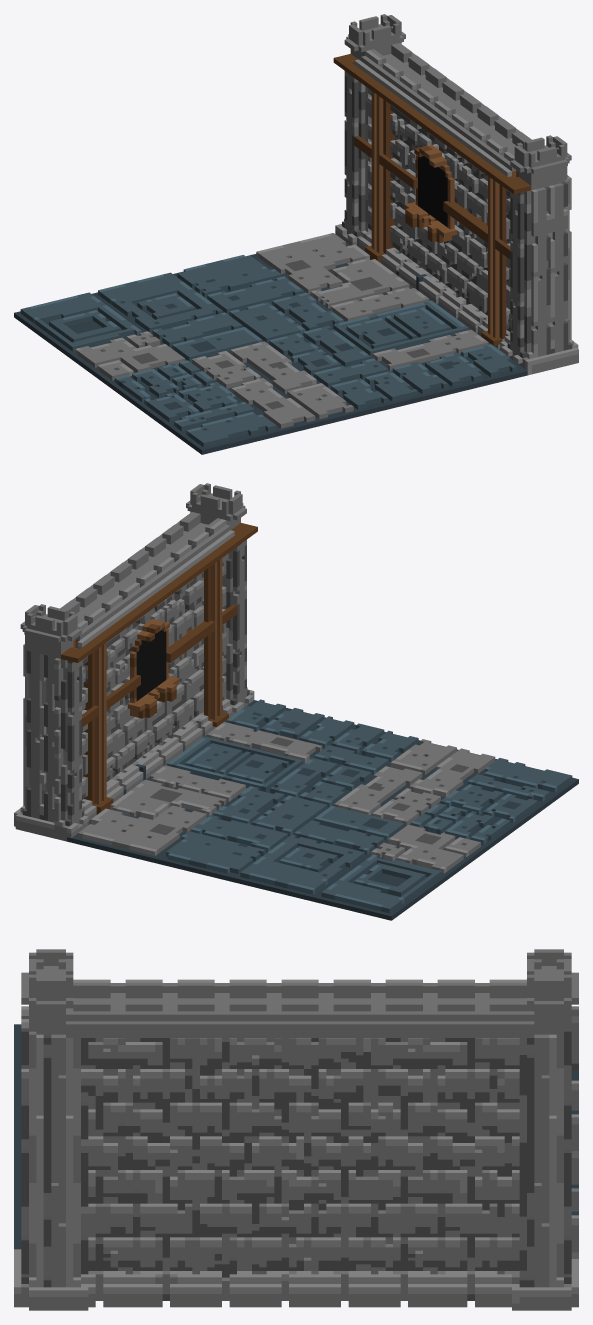
File: wall_Maderas_derecha.obj
3 renders of one model, top to bottom at view 1: azimuth 30°, elevation 25°; view 2: azimuth 150°, elevation 25°; view 3: azimuth 270°, elevation 25°, orthographic. The views are drawn at different scales.
Bounding box in the file's own units: 89 × 48 × 76.
1 material, 1 textured.
